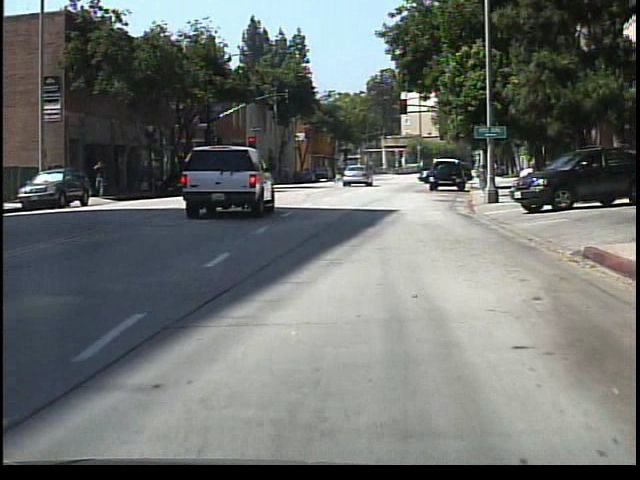person: (92, 159, 112, 201), (485, 154, 500, 181), (333, 163, 345, 187)
